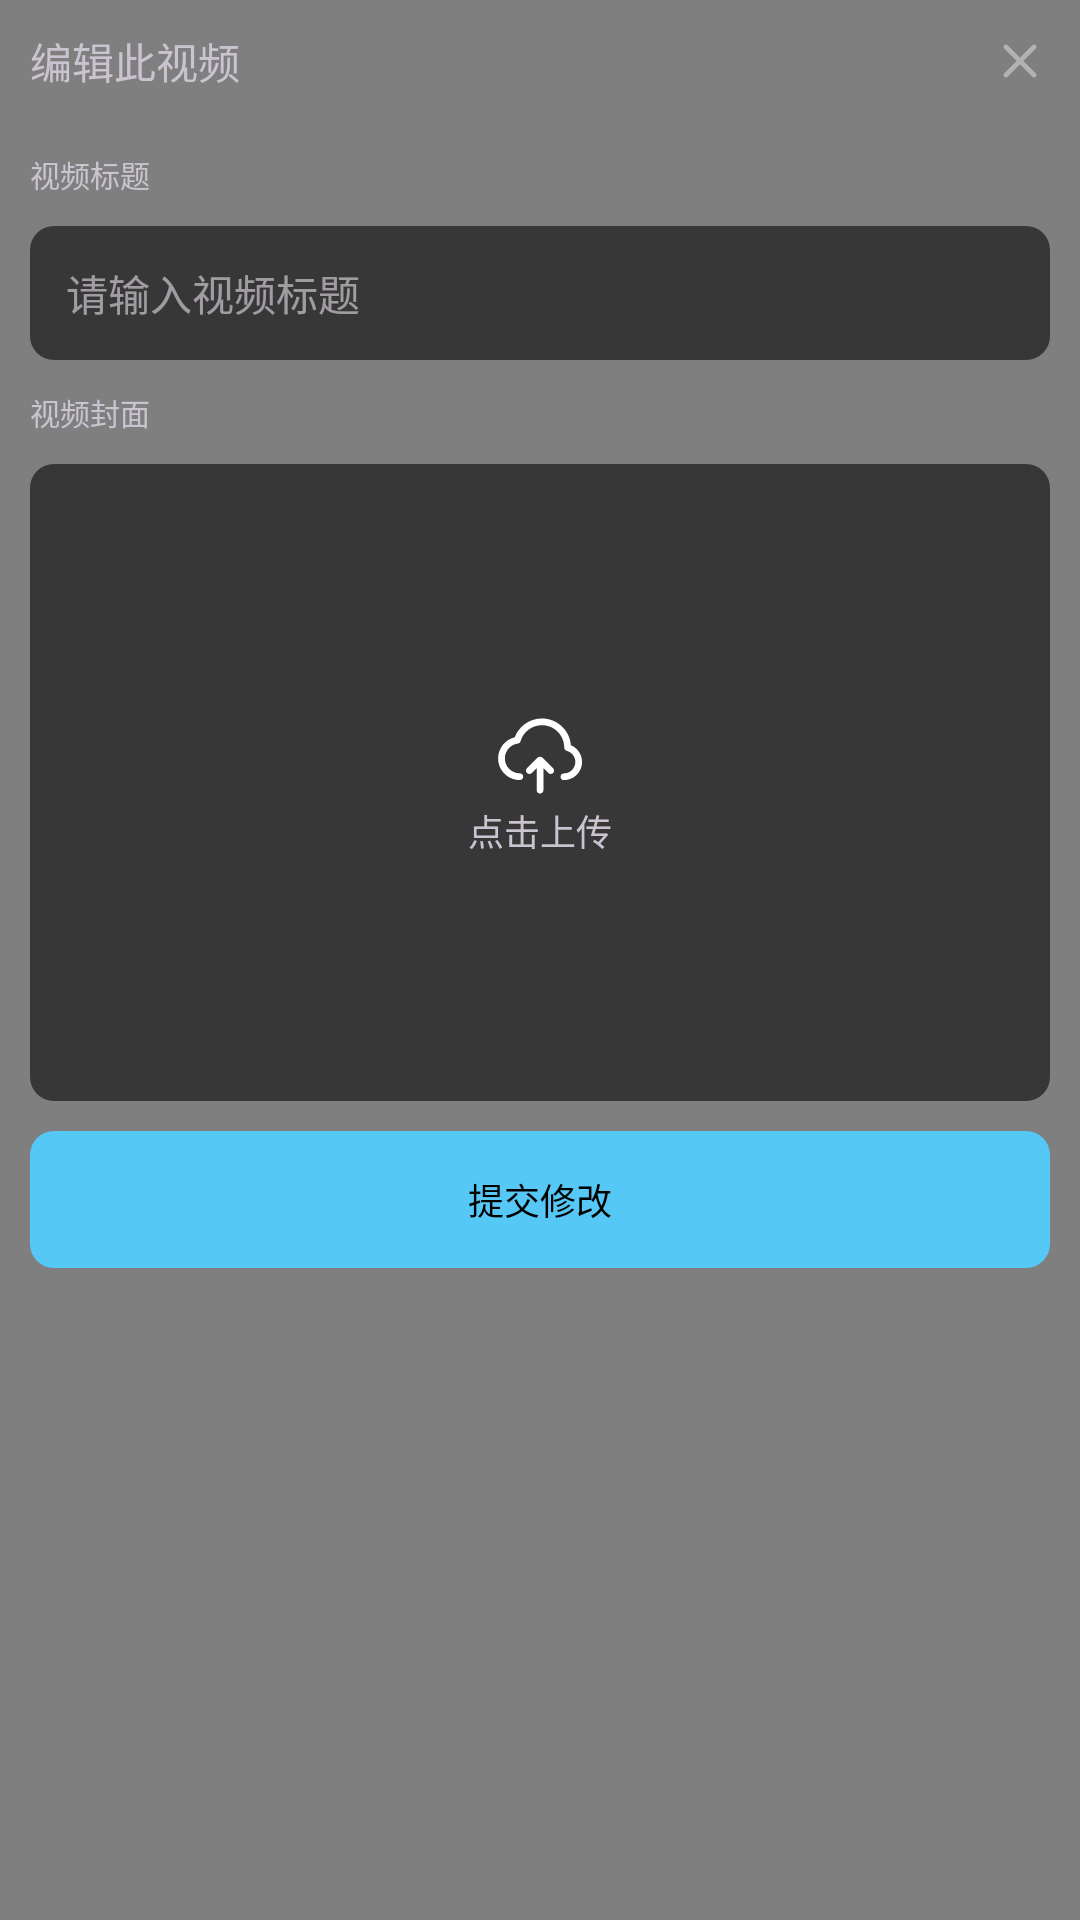

Point at icon controls on the screen. Image size 1080px×1920px, points as (x=x, y=y).
close: (x=1020, y=61)
